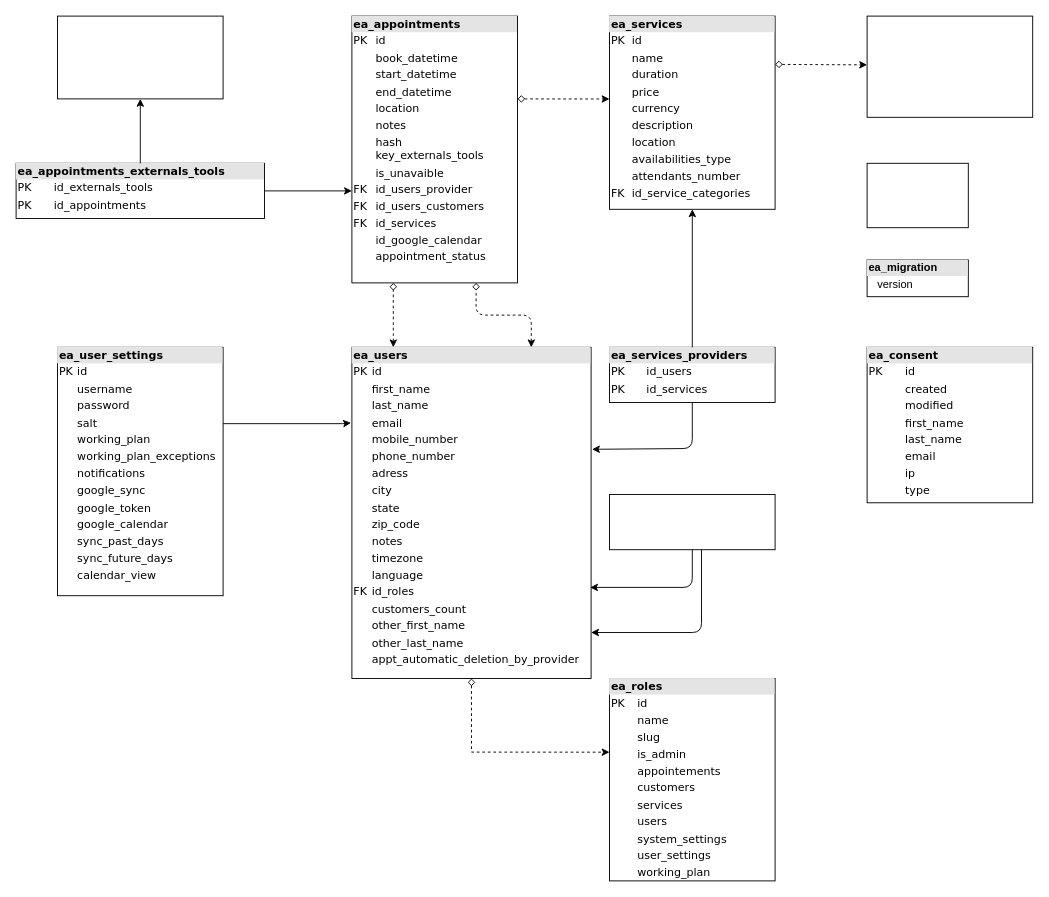
The diagram is 1049 pixels wide and 897 high, and some of its shapes have lost their labels. Each missing label, with the centre of its shape:
"ea_externals_tools PK id name description link" belongs at (140,57).
"ea_secratary_providers PK id_users_secretary PK id_users_provider" belongs at (692,522).
"ea_service_categories PK id name description color is_private" belongs at (949,66).
"ea_settings PK id name value" belongs at (917,195).
